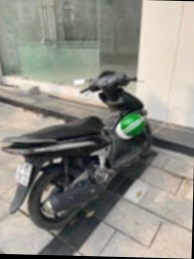Bien-so: (20, 175, 39, 202)
